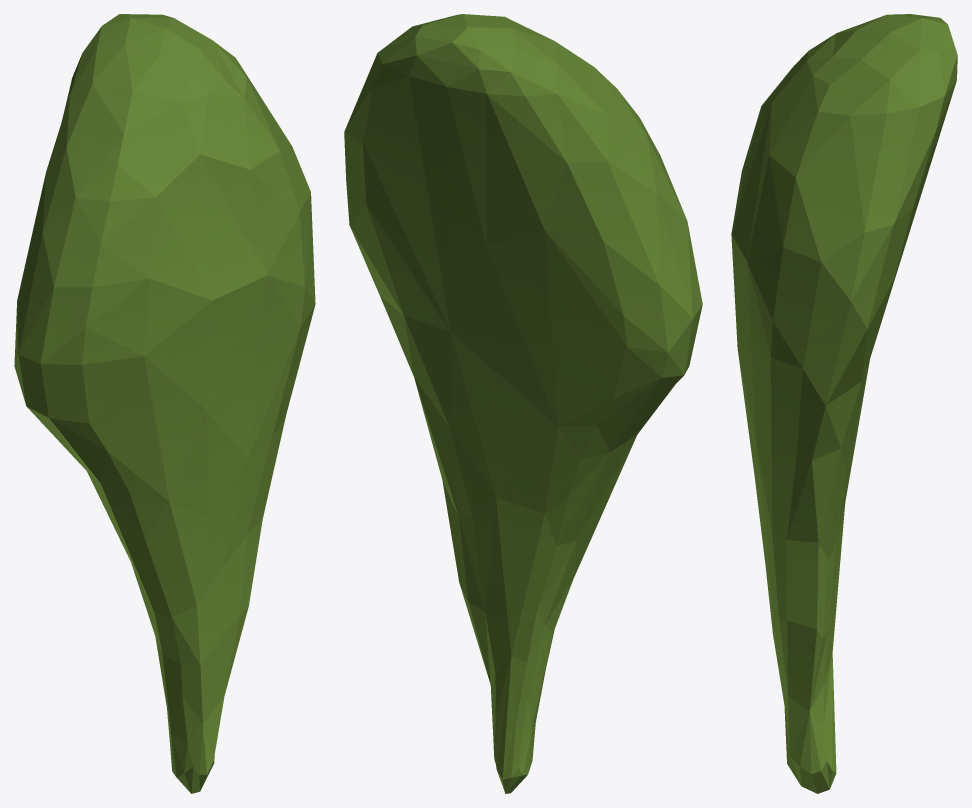
File: Cavern_HangingBush-02.fbx
3 views of the same model, side by side, from view 1: azimuth 30°, elevation 25°; view 2: azimuth 150°, elevation 25°; view 3: azimuth 270°, elevation 25° (orthographic). The views are drawn at different scales.
Parts seen in each view (by area): view 1: Cavern_HangingBush-02; view 2: Cavern_HangingBush-02; view 3: Cavern_HangingBush-02.
Boxes of the visible parts, x1=… form: Cavern_HangingBush-02: x1=14, y1=14, x2=315, y2=793; Cavern_HangingBush-02: x1=344, y1=14, x2=702, y2=793; Cavern_HangingBush-02: x1=731, y1=14, x2=957, y2=793.
Bounding box in the file's own units: 136 × 317 × 84.2.
Materials: 1 (1 with a texture image).
